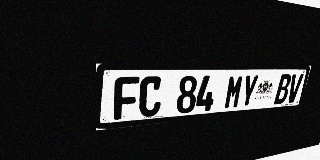4: (195, 75, 217, 112)
8: (176, 76, 199, 114)
B: (274, 74, 292, 104)
C: (138, 76, 163, 118)
F: (114, 76, 140, 120)
M: (223, 75, 244, 109)
V: (286, 74, 304, 103)
Y: (239, 75, 259, 108)
